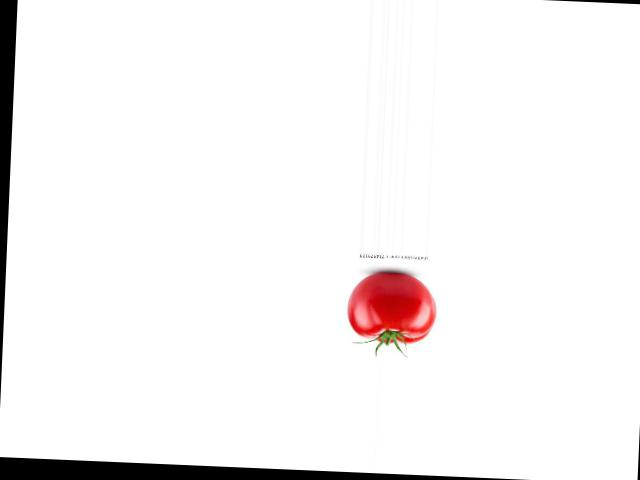tomato: (345, 271, 437, 343)
